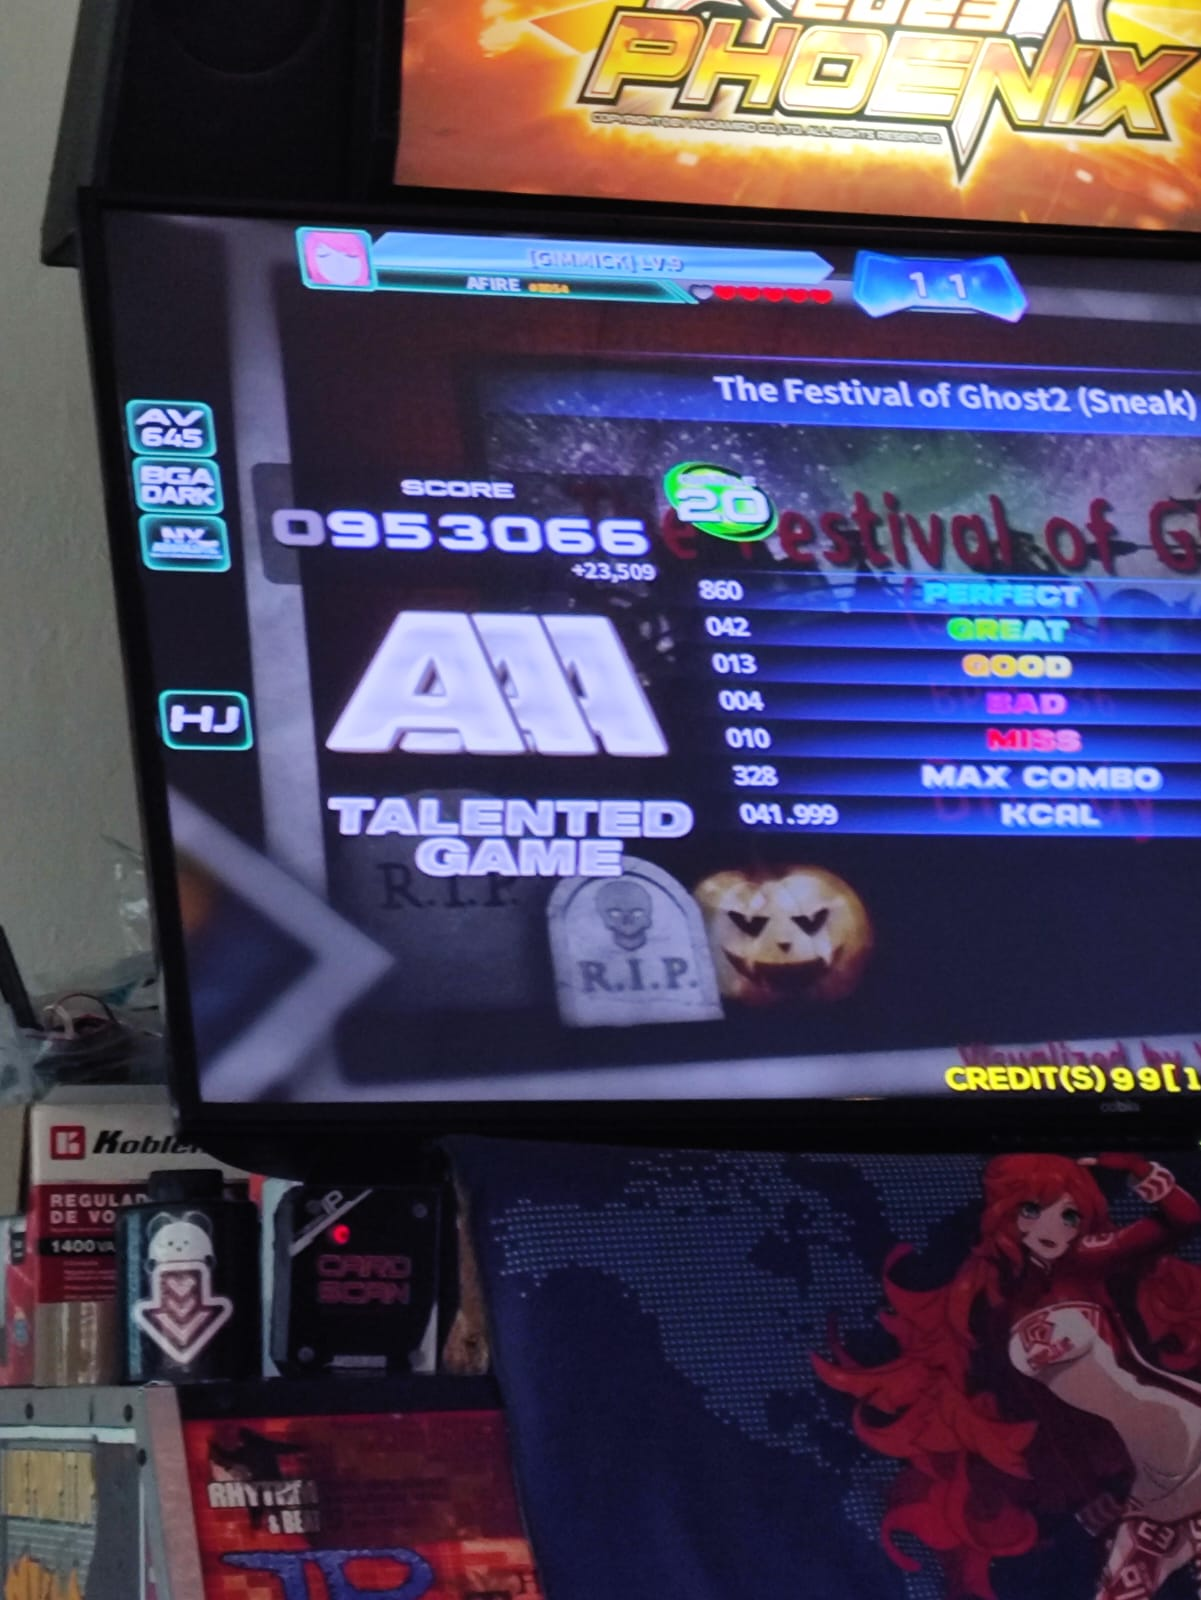difficulty: (662, 419, 816, 554)
fullscore: (69, 220, 1201, 1157)
rank: (296, 596, 670, 774)
score: (249, 456, 667, 615)
song_name: (532, 344, 1201, 424)
